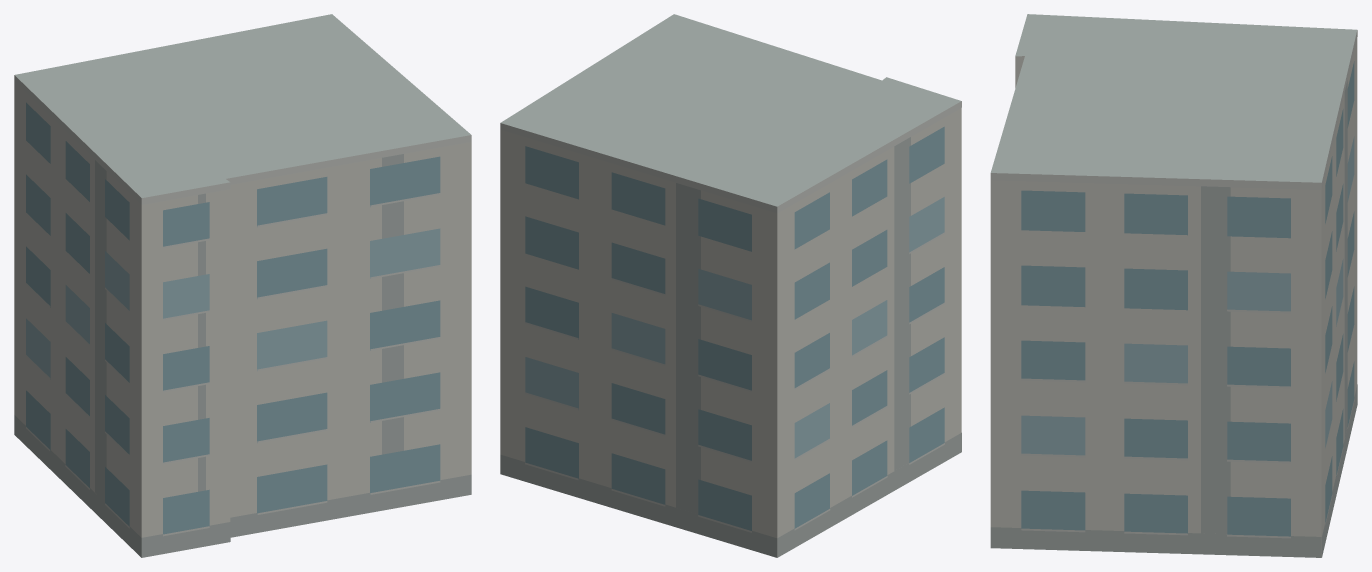
File: survey-upis-33047187.glb
3 views of the same model, side by side, from view 1: azimuth 30°, elevation 25°; view 2: azimuth 150°, elevation 25°; view 3: azimuth 270°, elevation 25° (orthographic). The views are drawn at different scales.
Visible parts, largest first — view 1: survey-upis-33047187.tmp; view 2: survey-upis-33047187.tmp; view 3: survey-upis-33047187.tmp.
Part boxes in pixels (bbox=[...]): survey-upis-33047187.tmp: bbox=[14, 14, 471, 557]; survey-upis-33047187.tmp: bbox=[500, 14, 961, 557]; survey-upis-33047187.tmp: bbox=[990, 14, 1357, 557].
Size of the model in its own units: 12.36 by 12.8 by 11.35.
